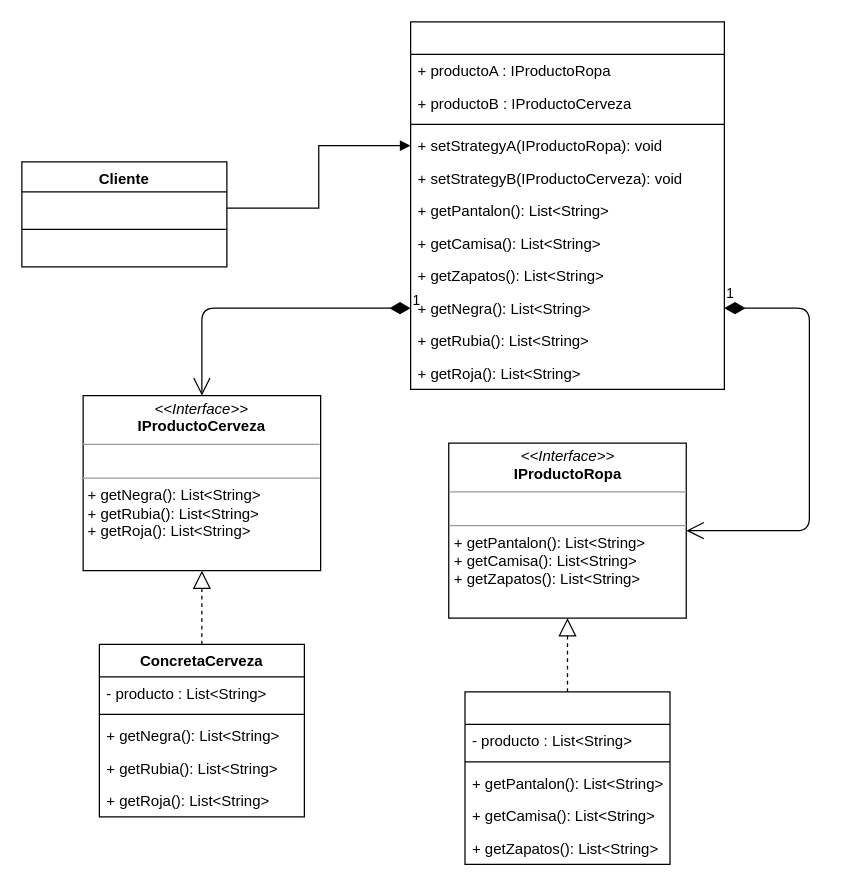
The diagram is 853 pixels wide and 890 high, and some of its shapes have lost their labels. Here are the shapes that lost their labels. From the top down, the box of each, then its label:
(409, 21, 724, 389): ContextoProducto
(464, 691, 670, 864): ConcretaRopa
